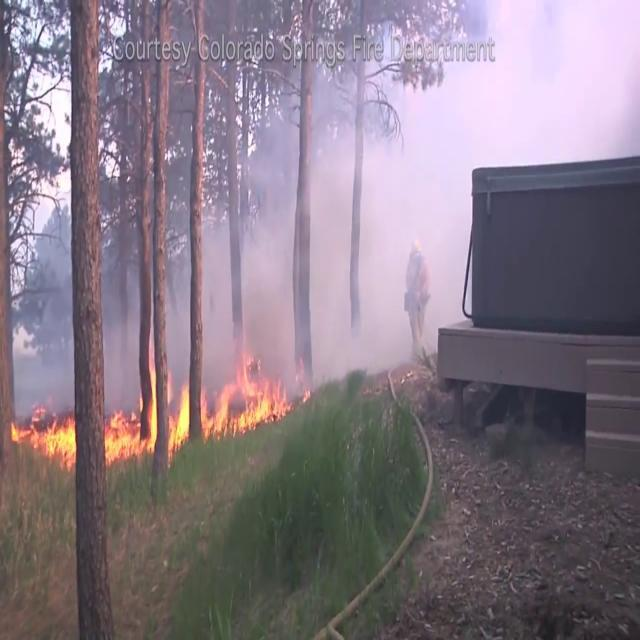Fire: (102, 341, 292, 458), (8, 400, 76, 466)
Smoke: (202, 16, 446, 390)
